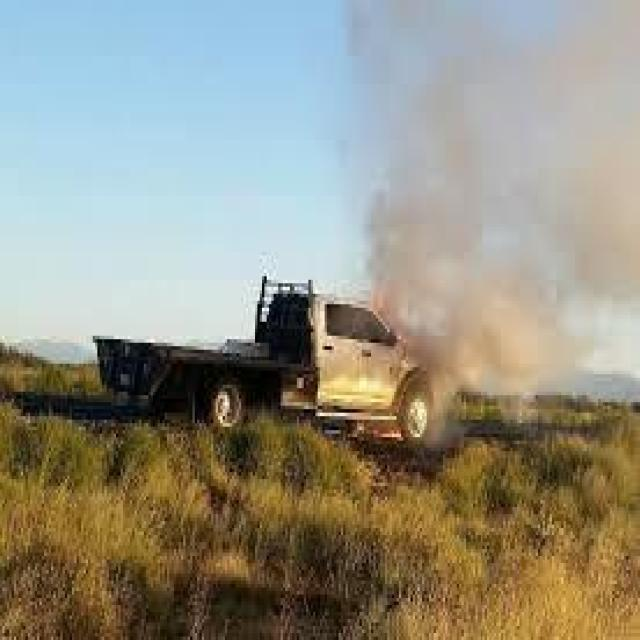smoke: (373, 59, 605, 360)
